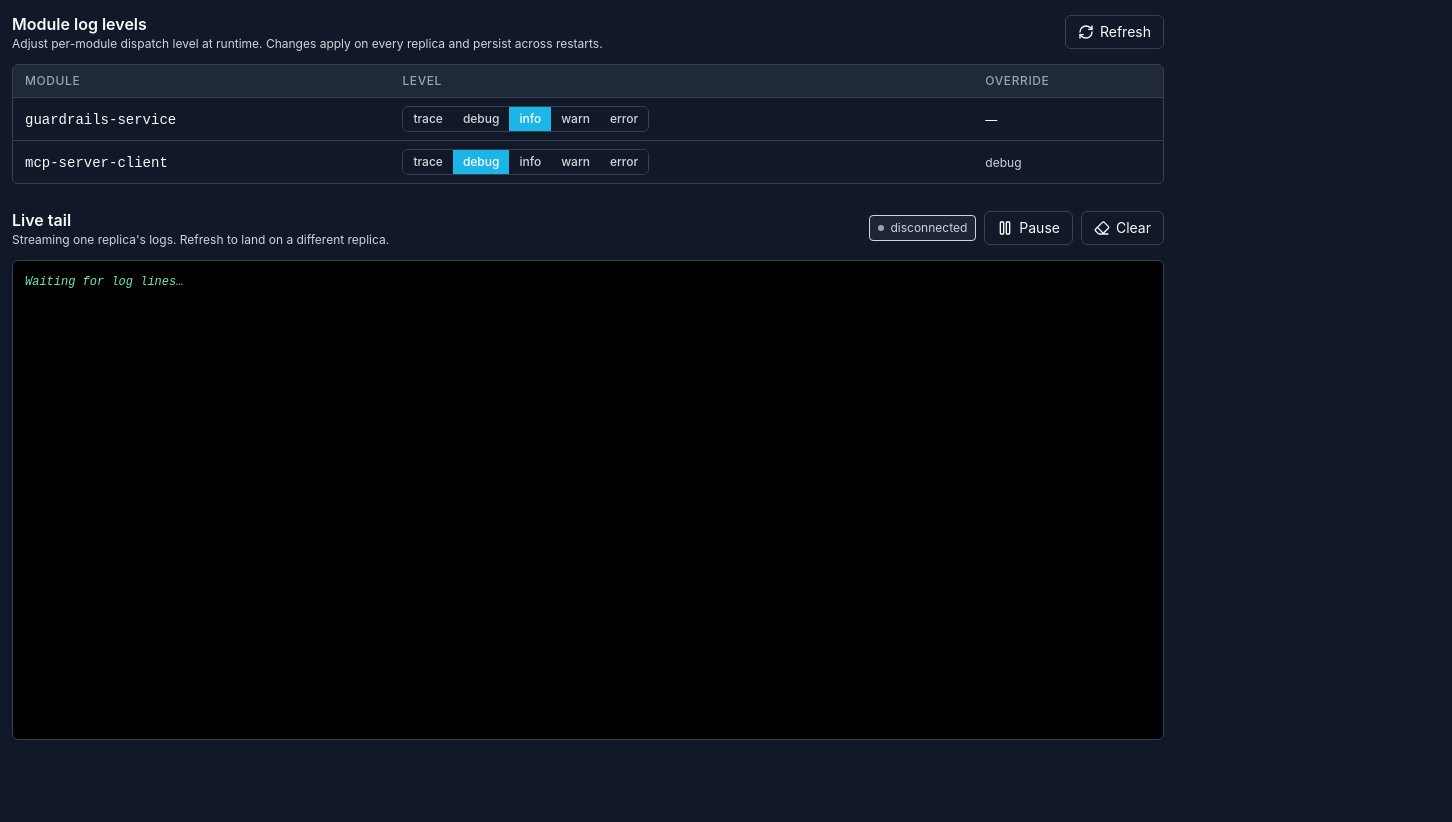
SystemLogsPane › surfaces a setLogLevel error inline without dropping the grid
Click the radio button with test id "system-logs-level-guardrails-service-warn" at point(576, 119), box [551,107,600,131]
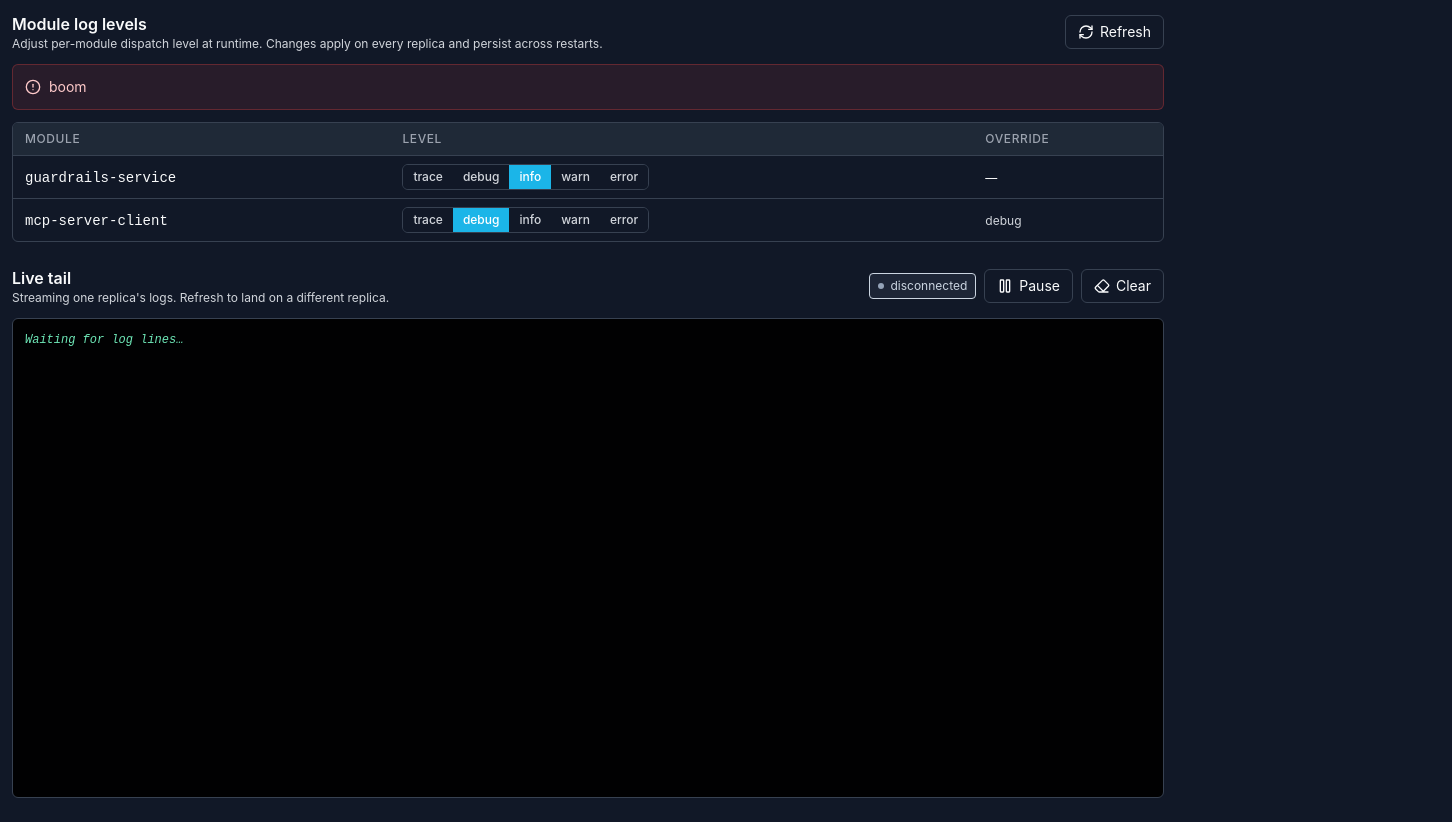
Expected: the text "guardrails-service" is shown, [25,170,176,186]
Expected: the element with test id "system-logs-levels-error" reads "boom", [49,78,87,95]
